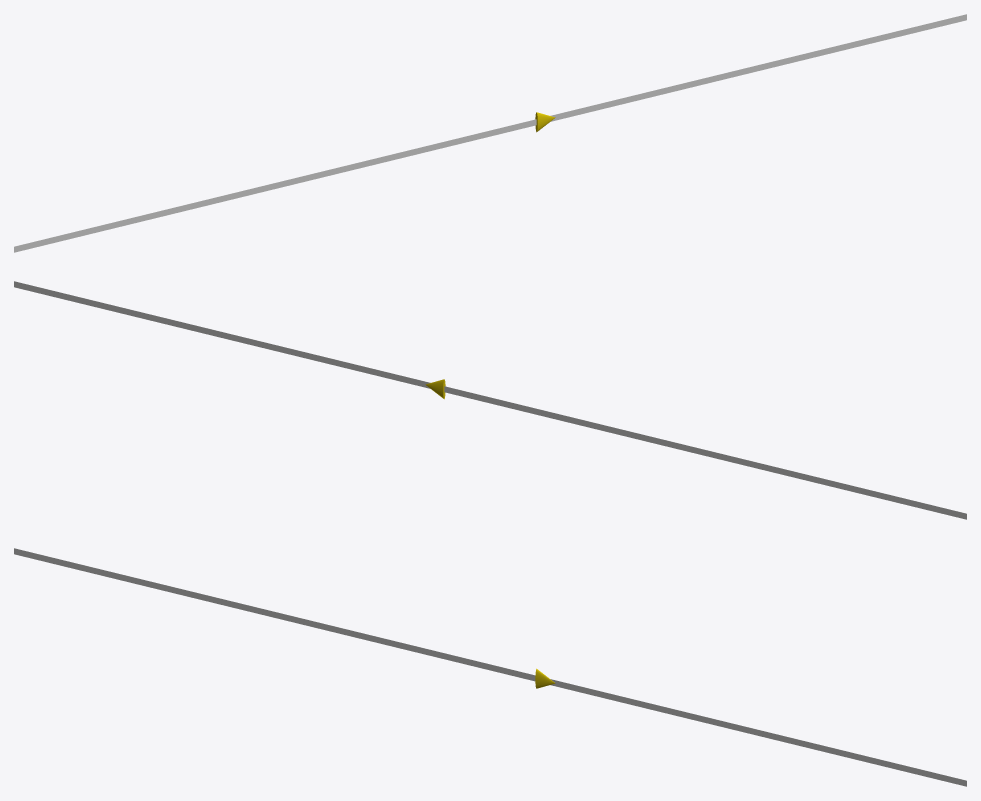
File: LightRay.fbx
3 renders of one model, top to bottom at view 1: azimuth 30°, elevation 25°; view 2: azimuth 150°, elevation 25°; view 3: azimuth 330°, elevation 25°, orthographic.
Visible parts, largest first — view 1: 平面; view 2: 平面; view 3: 平面.
Boxes of the visible parts, x1,y1,x2,y2 form: 平面: (14, 14, 966, 252); 平面: (14, 281, 966, 519); 平面: (14, 548, 966, 786).
Size of the model in its own units: 13041 by 264 by 57.55.
